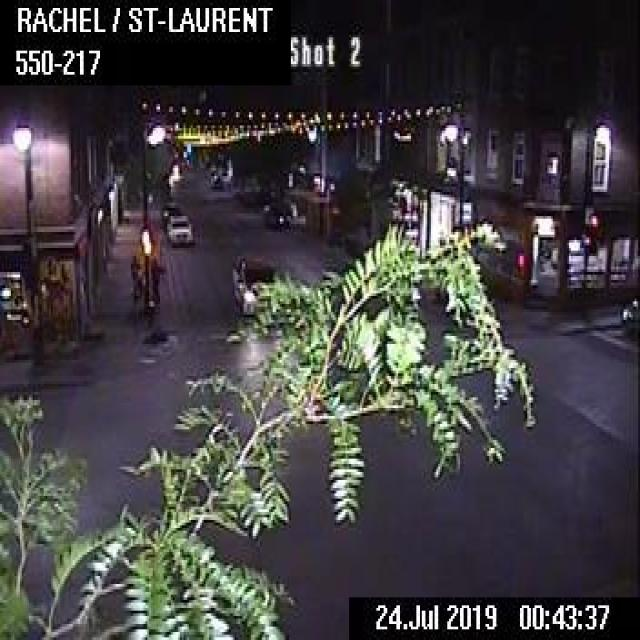pedestrian: (127, 251, 140, 296)
vehicle: (229, 250, 273, 314), (616, 288, 638, 336), (260, 199, 292, 229), (165, 214, 192, 245)
